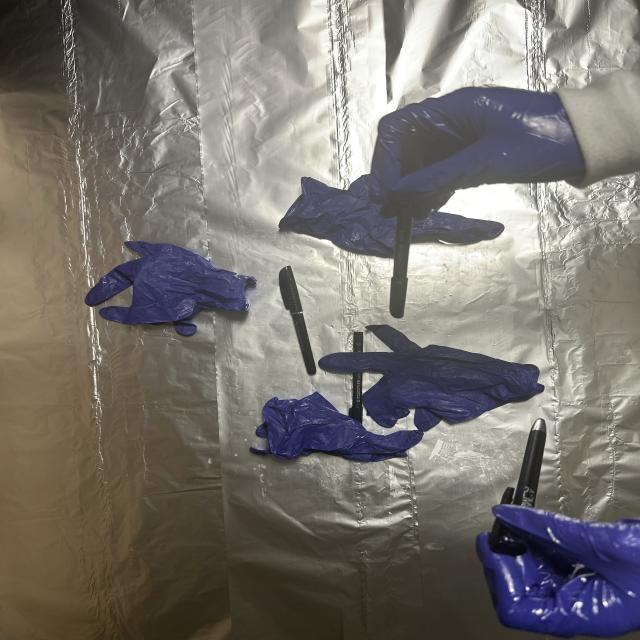gloves_contaminated: (370, 88, 586, 204), (476, 504, 640, 638)
